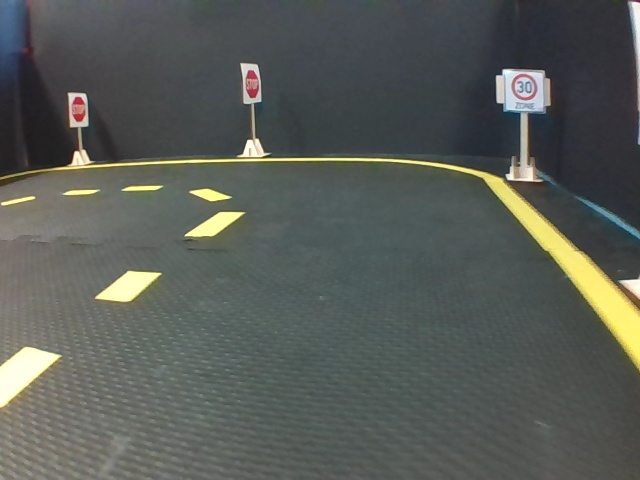30: (504, 71, 544, 112)
stop: (242, 65, 260, 102), (71, 93, 89, 126)
